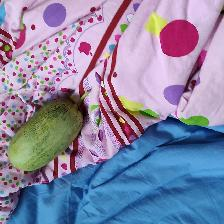gua: (6, 96, 71, 167)
